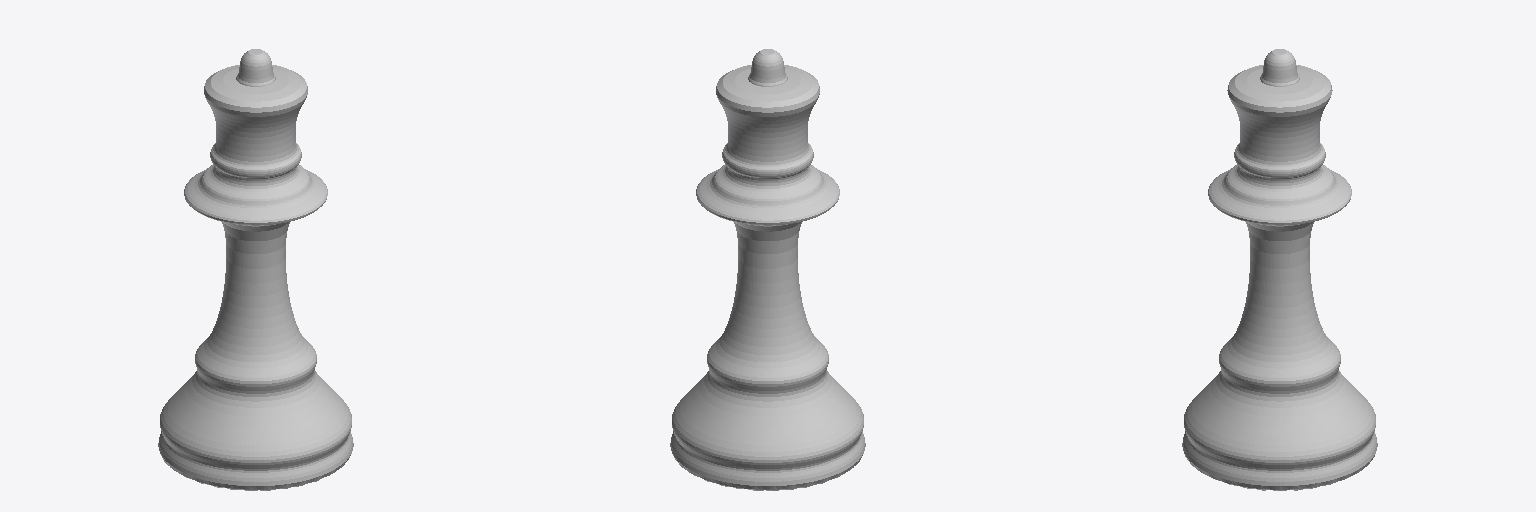
File: queenwh.obj
3 renders of one model, left to right at view 1: azimuth 30°, elevation 25°; view 2: azimuth 150°, elevation 25°; view 3: azimuth 270°, elevation 25°, orthographic.
Visible parts, largest first — view 1: Cylinder; view 2: Cylinder; view 3: Cylinder.
Boxes of the visible parts, <box> form: Cylinder: <box>158,49,353,490</box>; Cylinder: <box>670,49,865,490</box>; Cylinder: <box>1182,49,1377,490</box>.
Bounding box in the file's own units: 1.98 × 4.57 × 1.98.